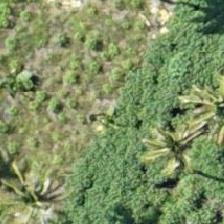coconut_tree: (126, 99, 216, 189), (0, 150, 67, 223)
